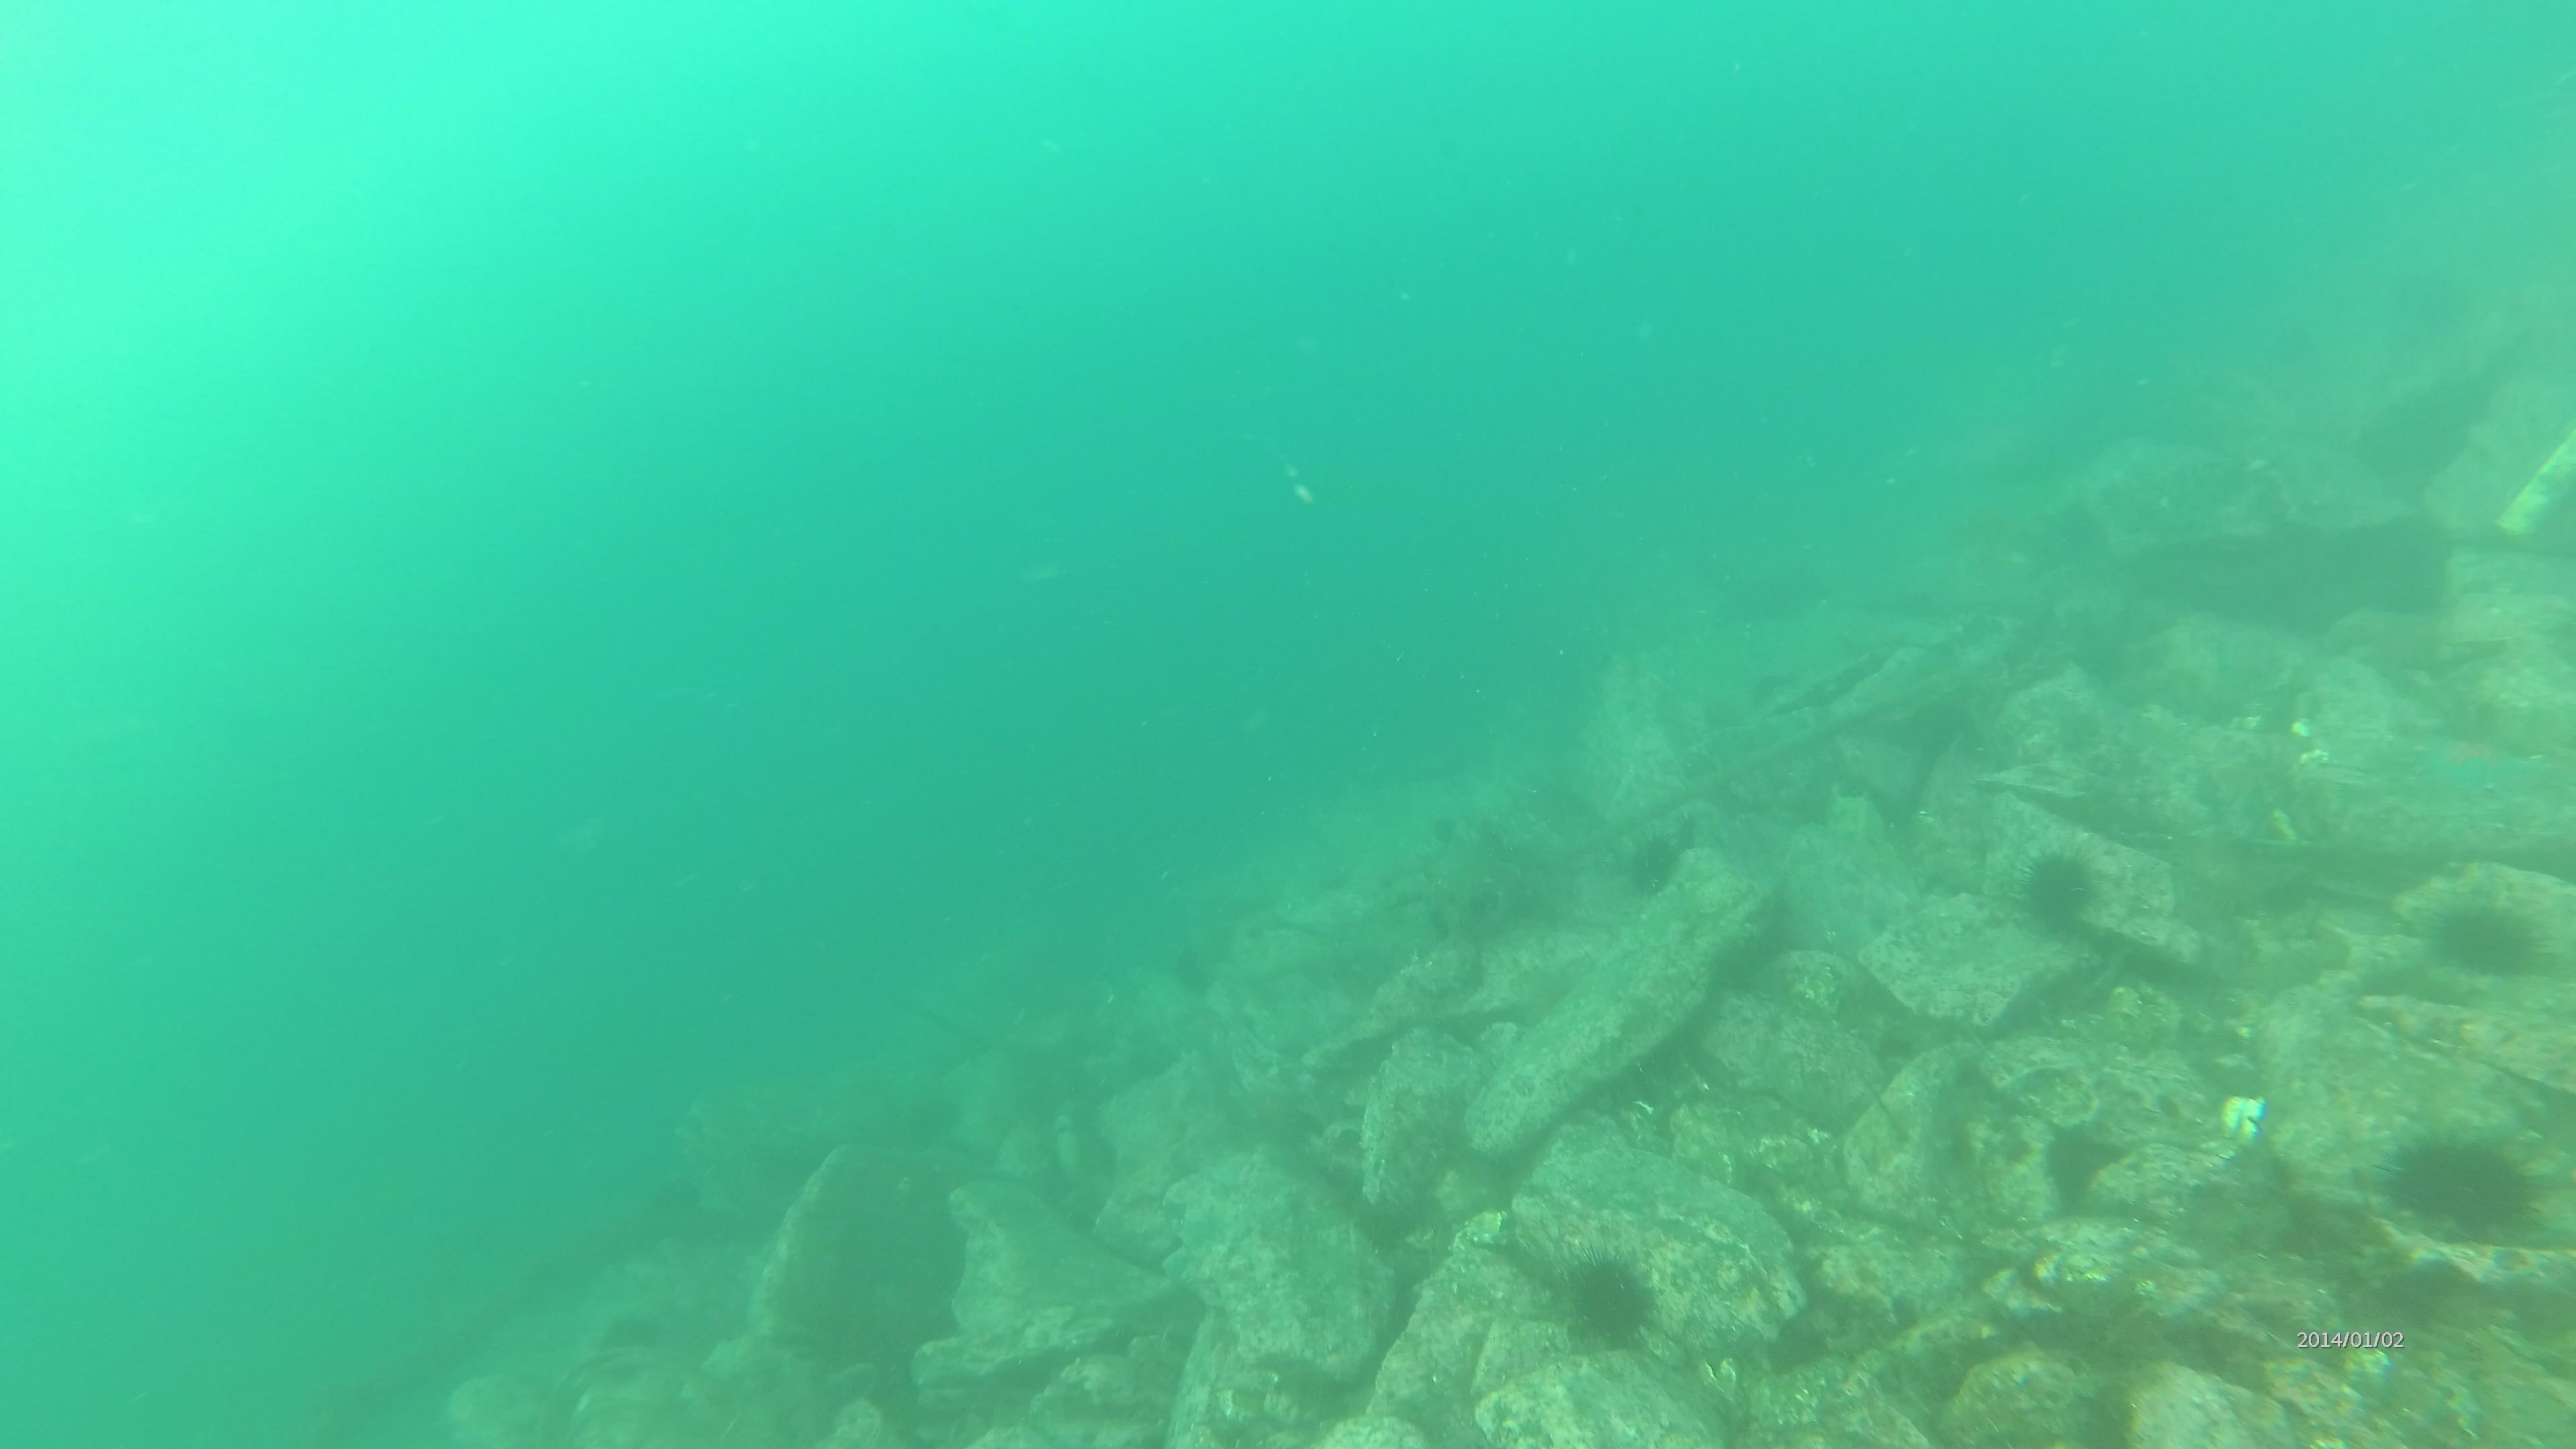echinus: (2376, 1120, 2548, 1249), (1550, 1244, 1663, 1355), (2424, 888, 2549, 985), (2008, 840, 2109, 943), (1615, 824, 1691, 902)
starfish: (2406, 725, 2544, 807)
